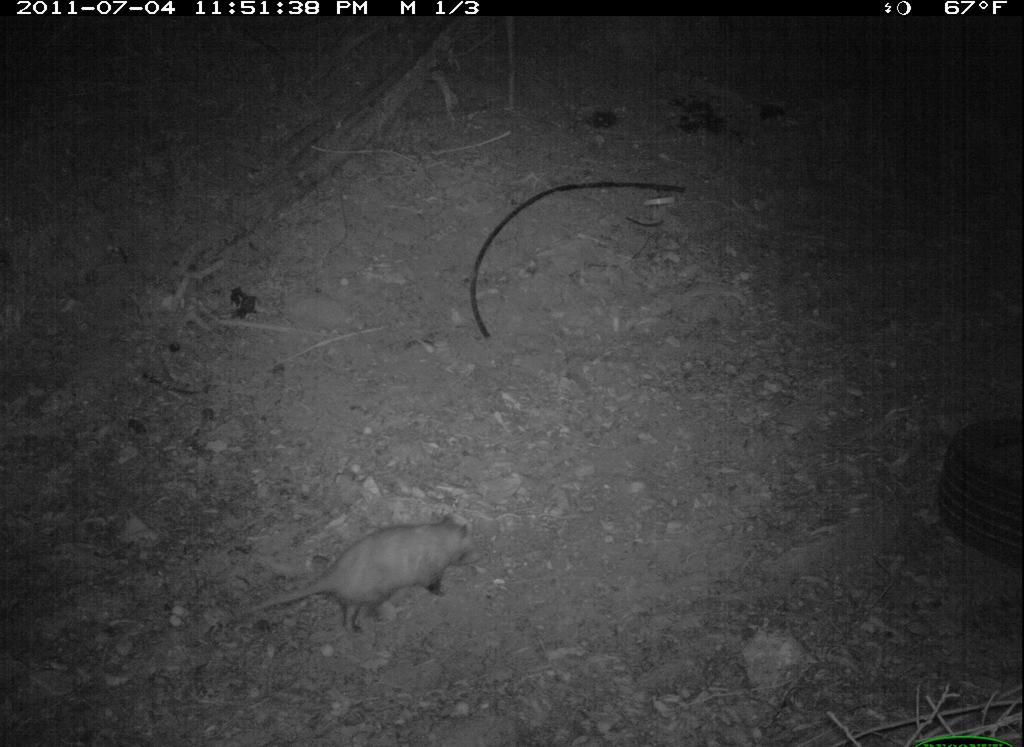opossum: (230, 496, 478, 642)
